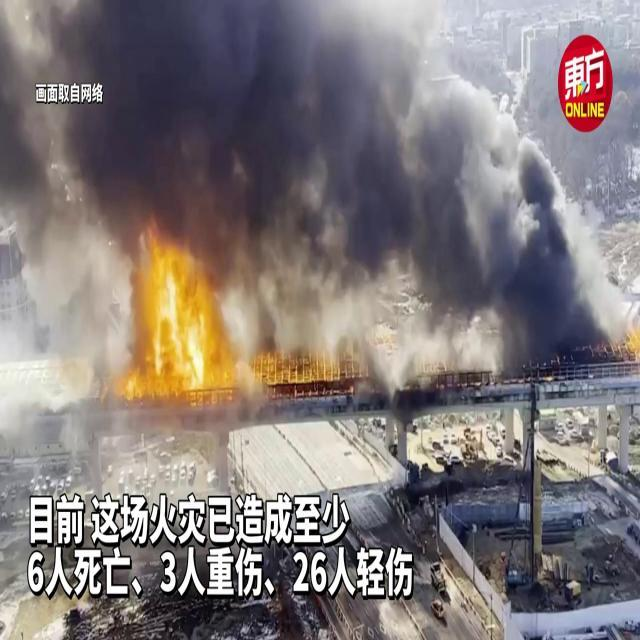Fire: (119, 220, 237, 408), (621, 316, 640, 367)
Smoke: (0, 0, 636, 361)
